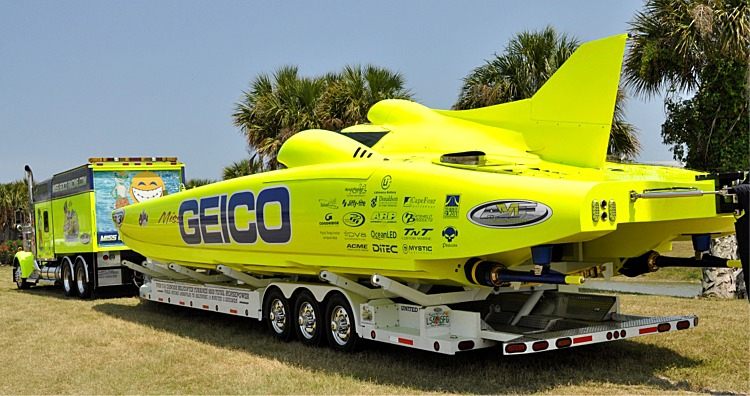Geico: (179, 187, 303, 247)
